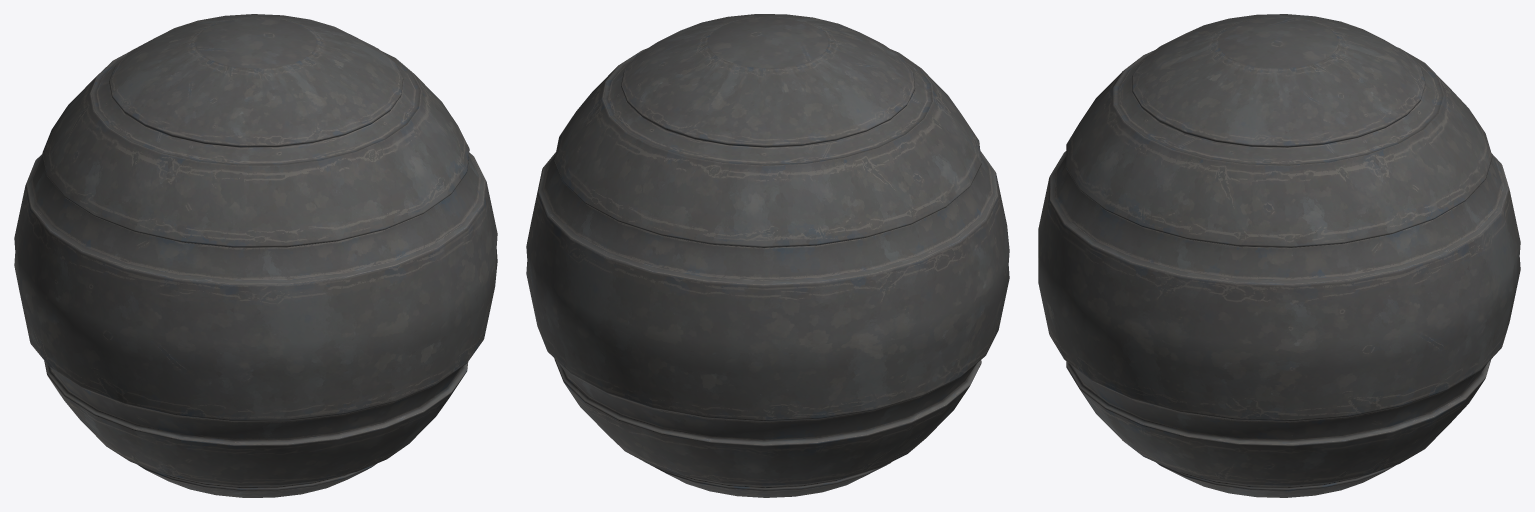
File: stone ball.fbx
3 renders of one model, left to right at view 1: azimuth 30°, elevation 25°; view 2: azimuth 150°, elevation 25°; view 3: azimuth 270°, elevation 25°, orthographic.
Parts seen in each view (by area): view 1: Sphere004; view 2: Sphere004; view 3: Sphere004.
Part boxes in pixels (left/top/right/bottom): Sphere004: left=14, top=14, right=497, bottom=497; Sphere004: left=526, top=14, right=1009, bottom=497; Sphere004: left=1038, top=14, right=1520, bottom=497.
Size of the model in its own units: 298 by 299 by 298.
